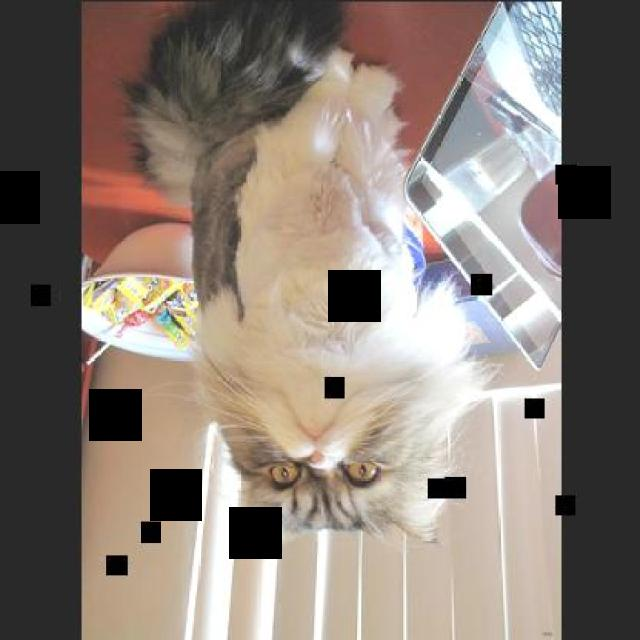unauthorized: (116, 0, 502, 545)
